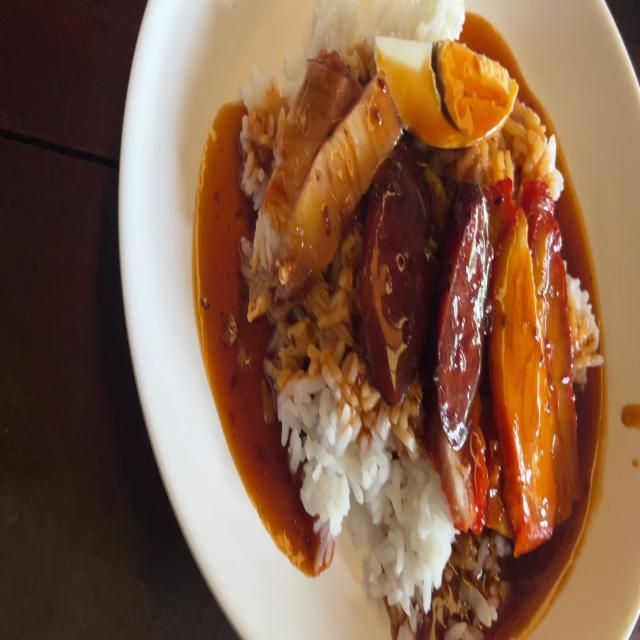red_pork_and_crispy_pork: (383, 33, 514, 134)
stir_fried_basil: (363, 153, 488, 427), (371, 165, 437, 382), (440, 194, 487, 431)
